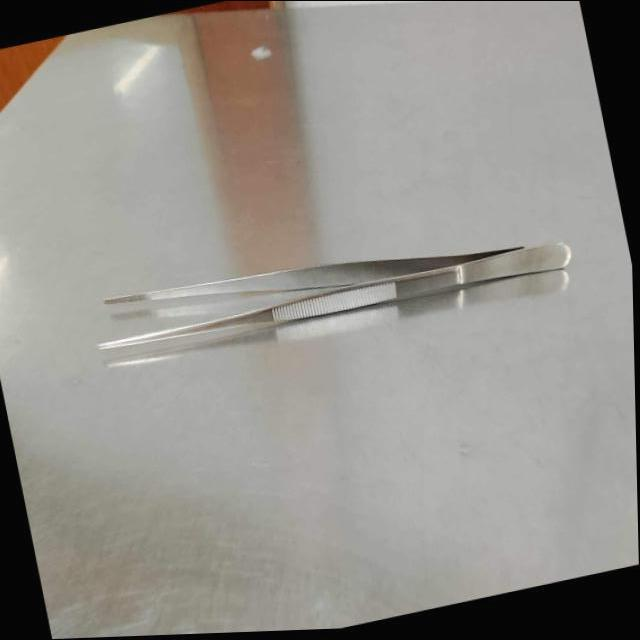Pathological: (1, 3, 636, 638)
Sharps: (95, 241, 571, 368), (102, 244, 527, 307)
